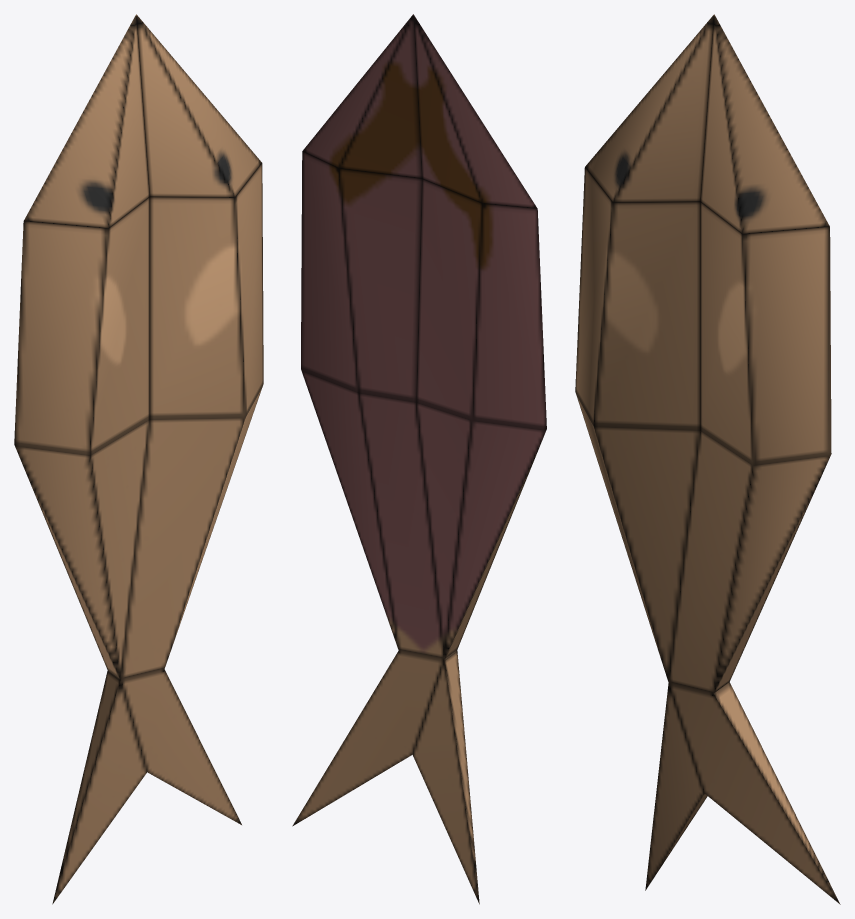
The model's file is himono.fbx.
3 views of the same model, side by side, from view 1: azimuth 30°, elevation 25°; view 2: azimuth 150°, elevation 25°; view 3: azimuth 330°, elevation 25° (orthographic). The views are drawn at different scales.
Visible parts, largest first — view 1: pPlane2; view 2: pPlane2; view 3: pPlane2.
Boxes of the visible parts, <box> form: pPlane2: <box>14,14,263,904</box>; pPlane2: <box>292,14,546,904</box>; pPlane2: <box>575,14,840,904</box>.
Size of the model in its own units: 0.2767 by 0.9314 by 0.0846.
Materials: 1 (1 with a texture image).
